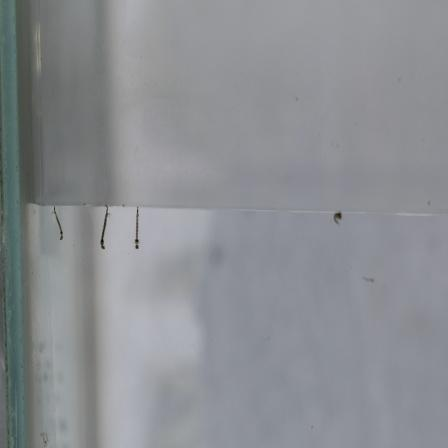Jentik-Nyamuk: (96, 200, 113, 253), (49, 202, 67, 245), (131, 205, 143, 253), (328, 209, 346, 227)
